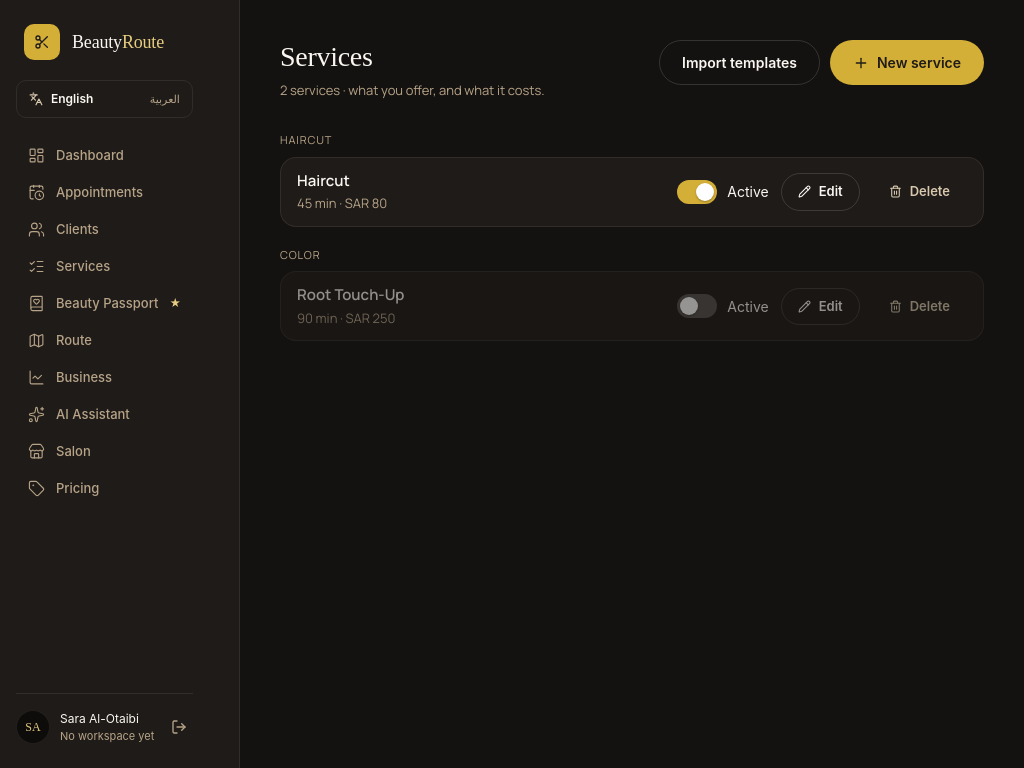
Test: Services page › edits an existing service
expect the text "Haircut" is shown: met, box 297,170 -> 350,191
Click the button "Edit" in the row of "45 min · SAR 80".
click(820, 192)  # box 781,173 -> 860,211
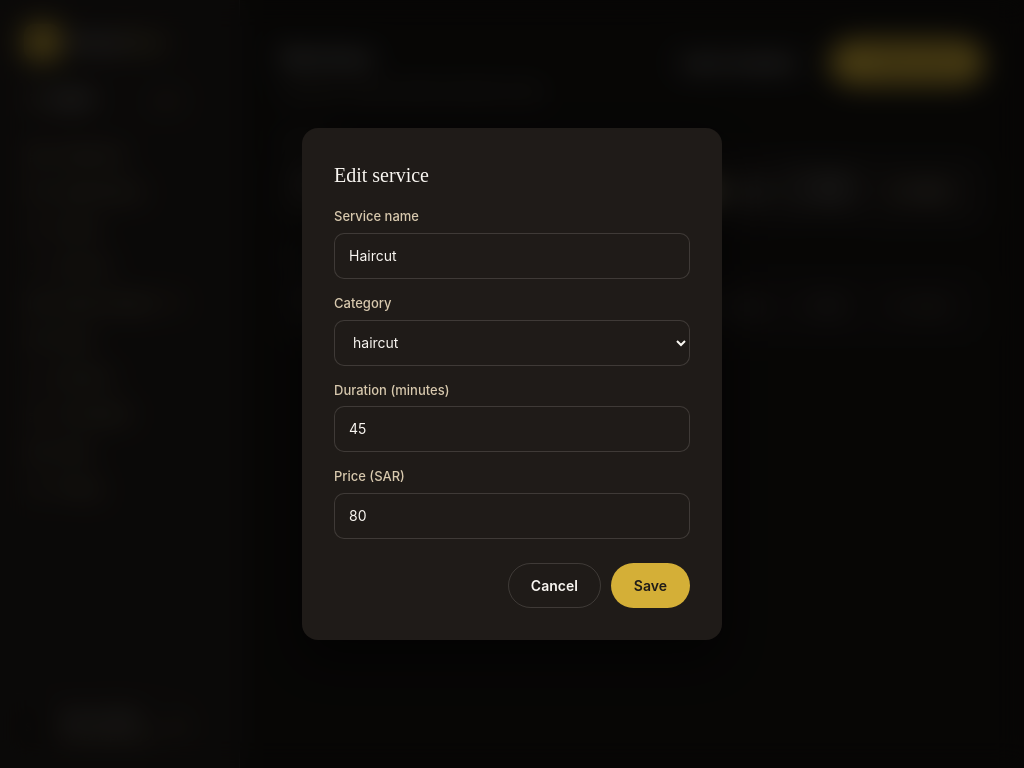
Replace the text in the number field labelled "Price (SAR)" with "95" at (512, 516), box 349,505 -> 675,527
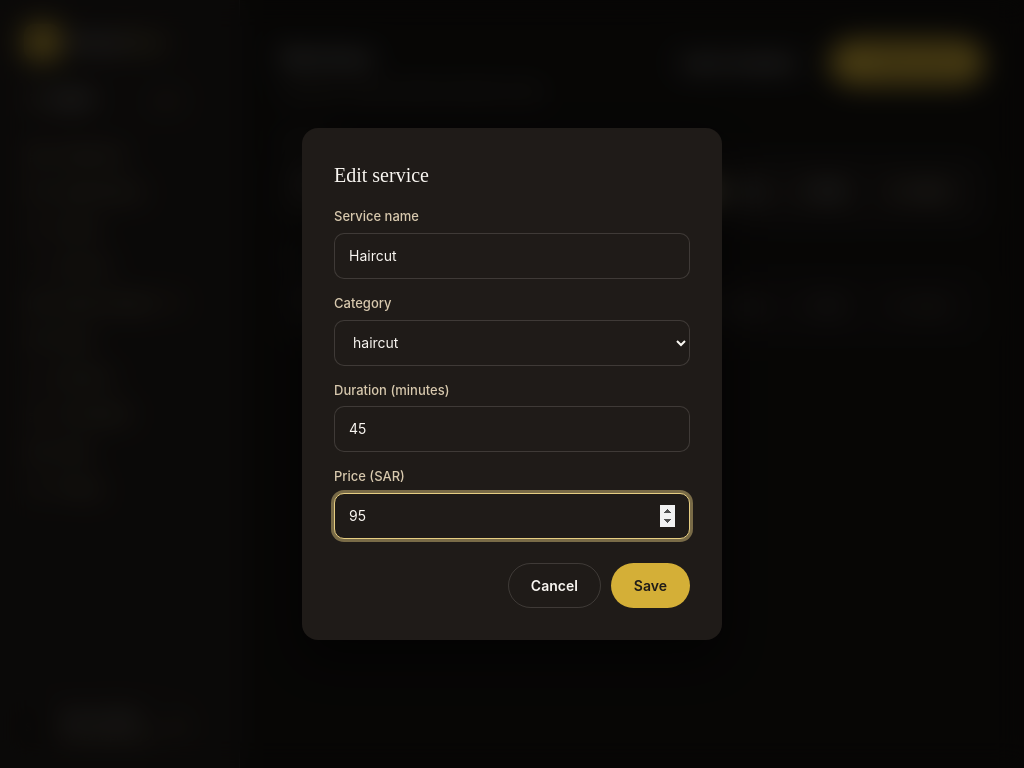
Click the button "Save".
click(650, 586)  # box 611,563 -> 690,608
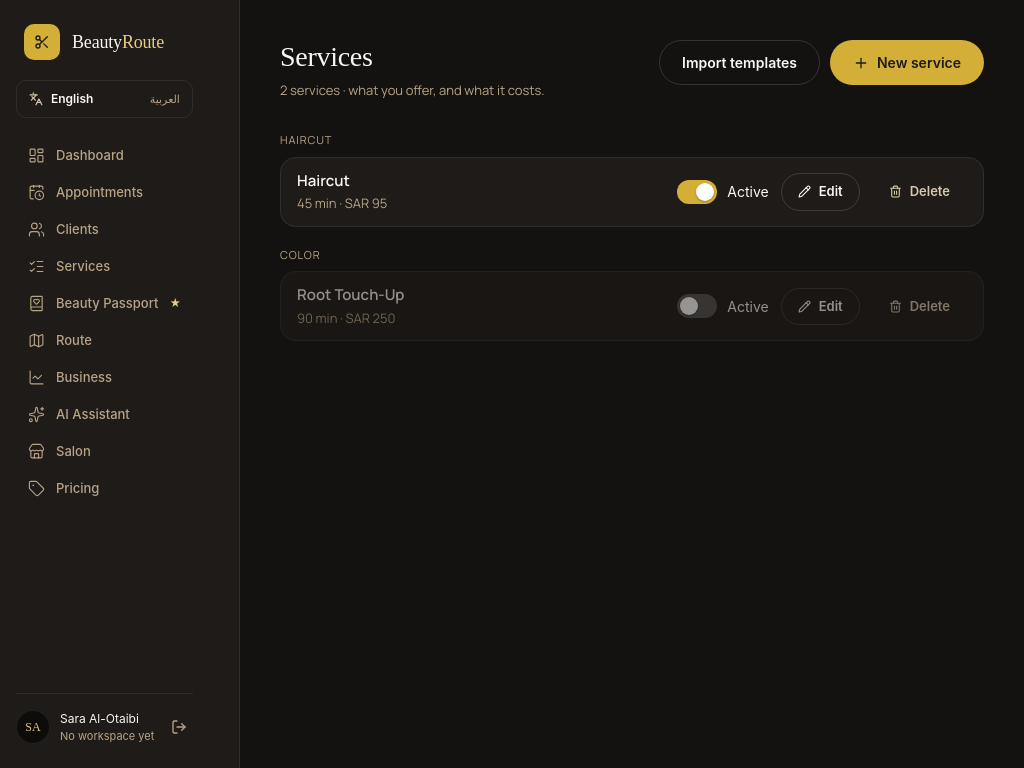
expect the text "45 min · SAR 95" is shown: met, box 297,194 -> 387,212
